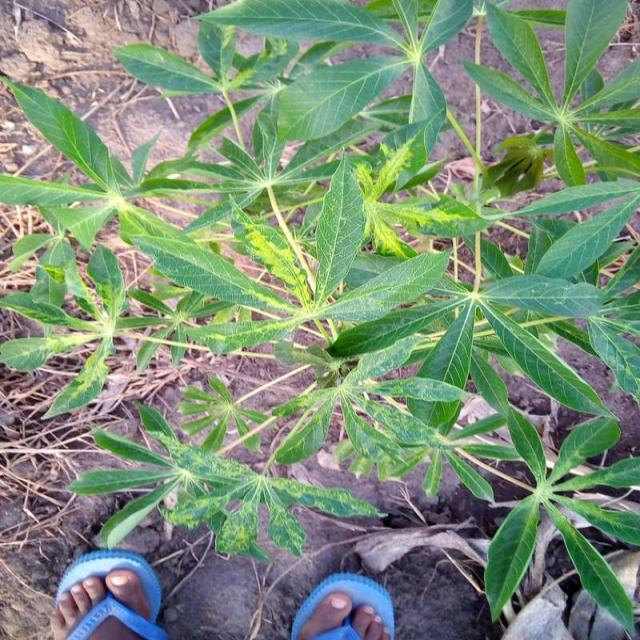cassava leaf: (1, 0, 638, 635), (313, 150, 366, 308)
